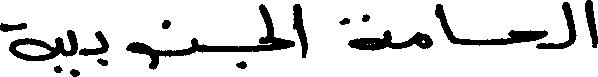X: (0, 18, 58, 76), (257, 0, 291, 56), (349, 9, 385, 55), (128, 37, 157, 74), (509, 25, 545, 53), (436, 0, 455, 48), (293, 0, 306, 62), (563, 0, 575, 53), (585, 0, 597, 52), (97, 26, 108, 70), (69, 25, 77, 76), (414, 27, 429, 53), (189, 33, 197, 59)
